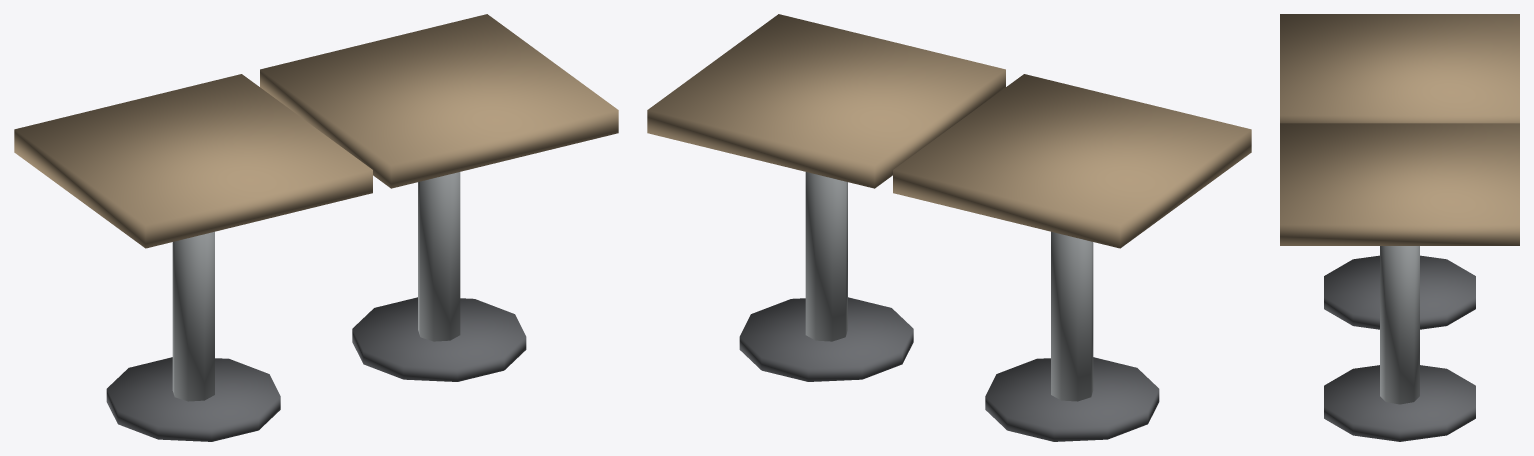
Rendered from diner_two_top__cluster.glb.
3 renders of one model, left to right at view 1: azimuth 30°, elevation 25°; view 2: azimuth 150°, elevation 25°; view 3: azimuth 270°, elevation 25°, orthographic. The views are drawn at different scales.
Parts seen in each view (by area): view 1: world; view 2: world; view 3: world.
Part boxes in pixels (bbox=[...]): world: bbox=[14, 14, 618, 441]; world: bbox=[647, 14, 1251, 441]; world: bbox=[1280, 14, 1519, 441].
Size of the model in its own units: 1.5 by 0.775 by 0.72.
